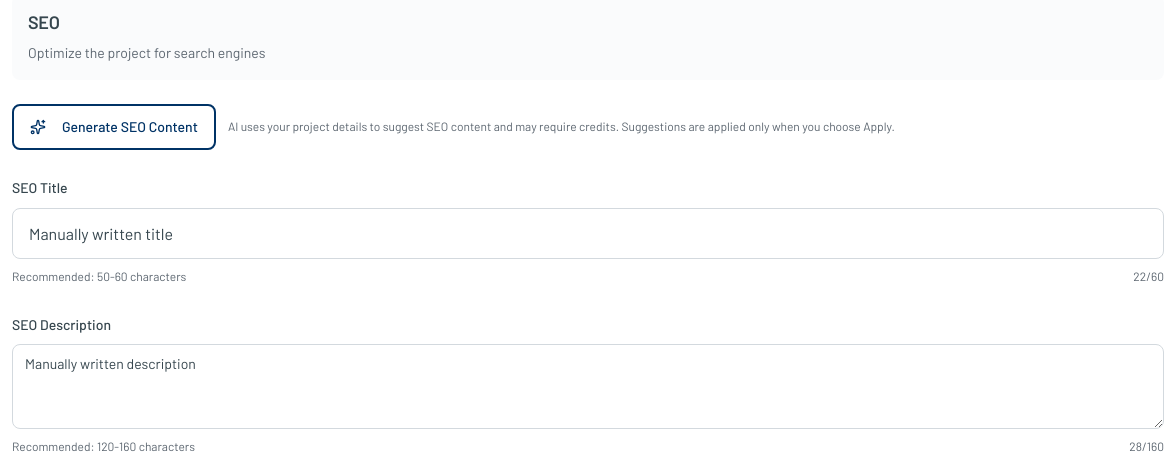
Test: reviewing AI SEO suggestions › does not overwrite edits made while generation is pending
Later steps or results of the test are not shown.
Click the button "Generate SEO Content": [114, 127] box [12,104,216,150]
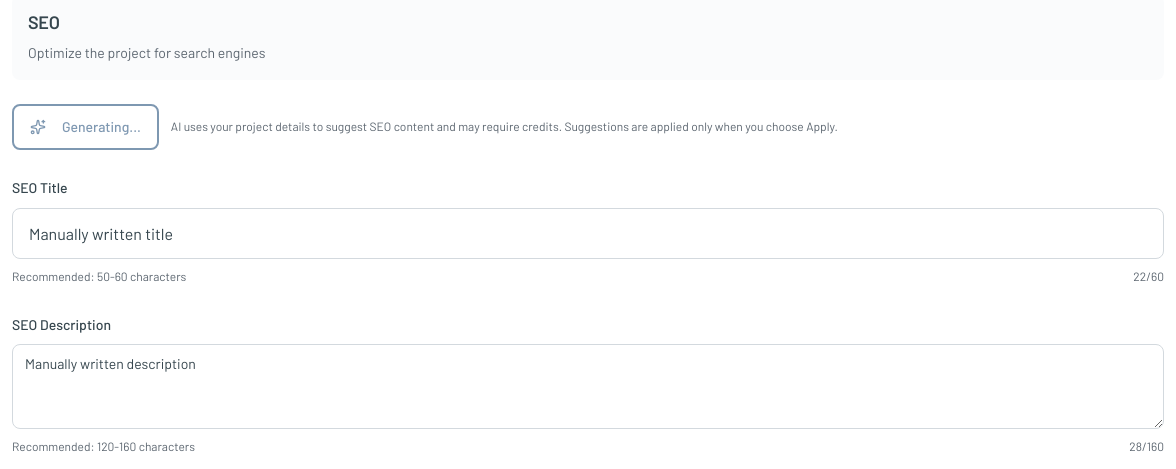
Expected: the button "Generating..." is disabled, [12,104,159,150]
